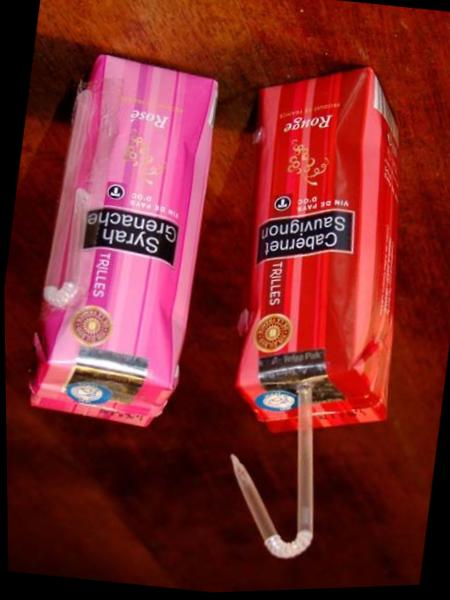cardboard: (230, 68, 447, 585), (29, 55, 216, 425)
plastic: (231, 68, 446, 583)
